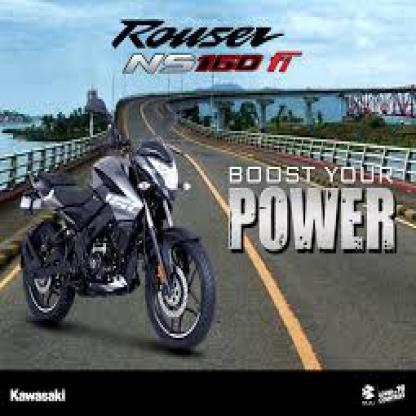Motorcycle: (15, 123, 215, 350)
